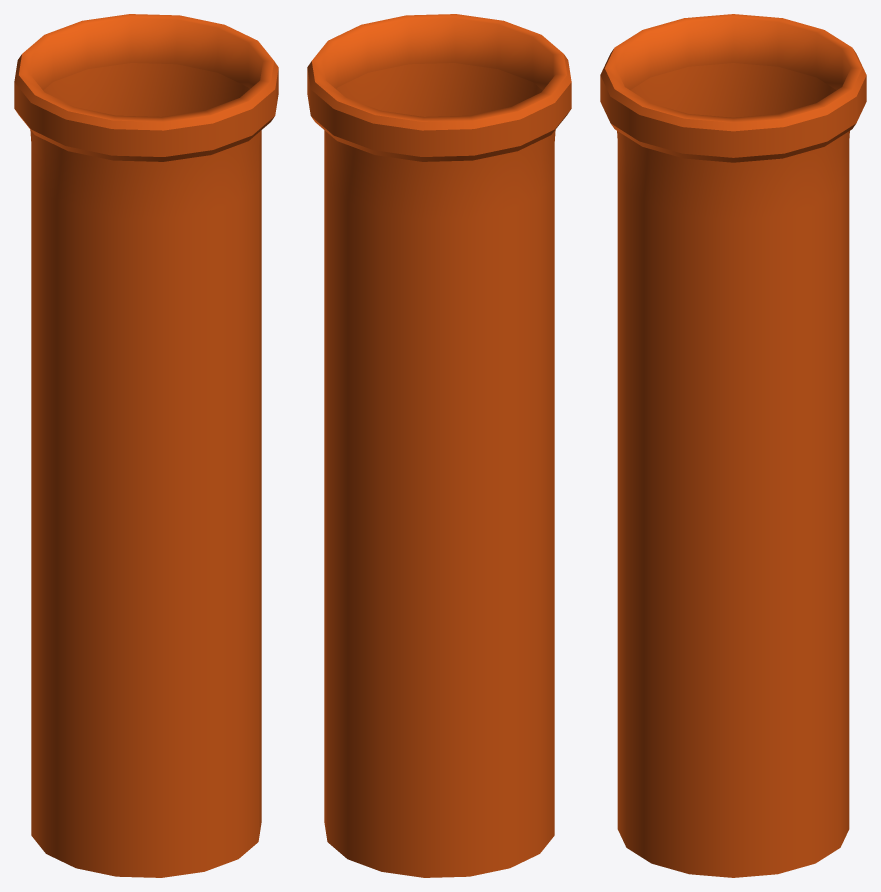
The model's file is SM_Pipe_Straight.fbx.
3 views of the same model, side by side, from view 1: azimuth 30°, elevation 25°; view 2: azimuth 150°, elevation 25°; view 3: azimuth 270°, elevation 25° (orthographic).
Visible parts, largest first — view 1: Straight; view 2: Straight; view 3: Straight.
Part boxes in pixels (left/top/right/bottom): Straight: left=14, top=14, right=278, bottom=877; Straight: left=307, top=14, right=571, bottom=877; Straight: left=600, top=14, right=866, bottom=877.
Size of the model in its own units: 31.72 by 100 by 31.72.
